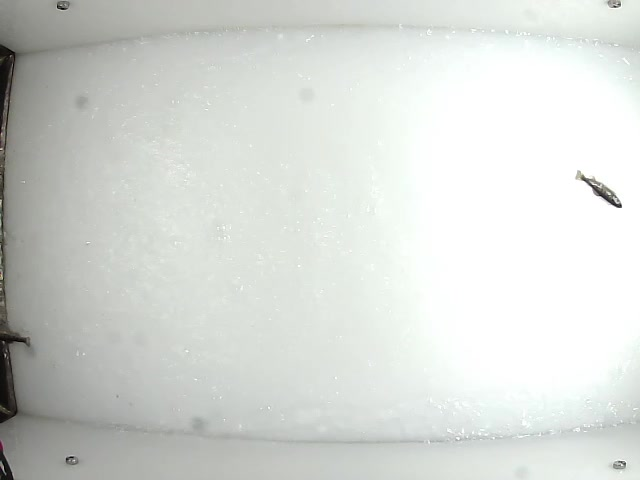fish: (572, 170, 624, 210)
